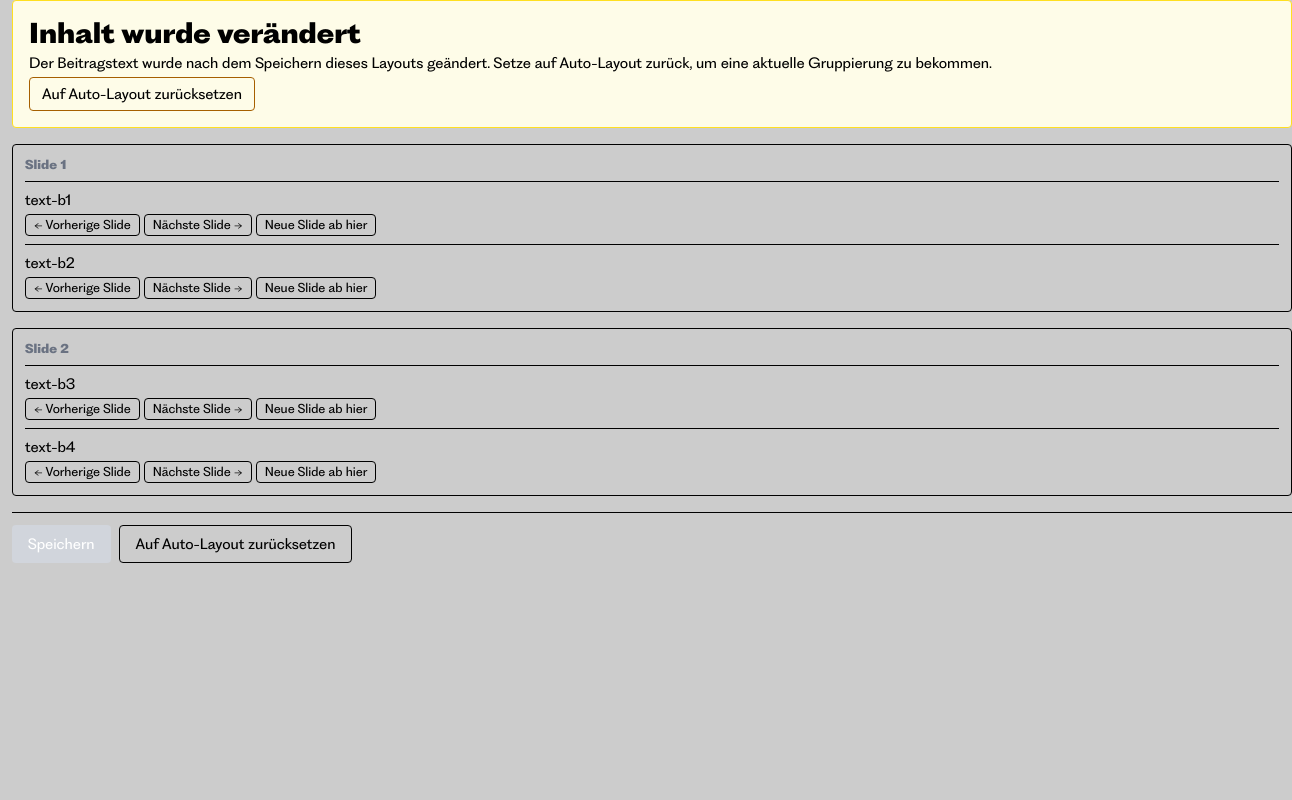
LayoutEditor › C-11: stale + orphan flows › (b) Click reset (stale) → DELETE 204 → re-fetch shows auto + reset gone
This screenshot has width=1292, height=800.
Check: the heading "Inhalt wurde verändert" is shown, box [29,16,361,50]
Note: Click reset (the one inside the stale banner).
Click the button "Auf Auto-Layout zurücksetzen" below "Inhalt wurde verändert": point(142, 94) [29,77,255,111]
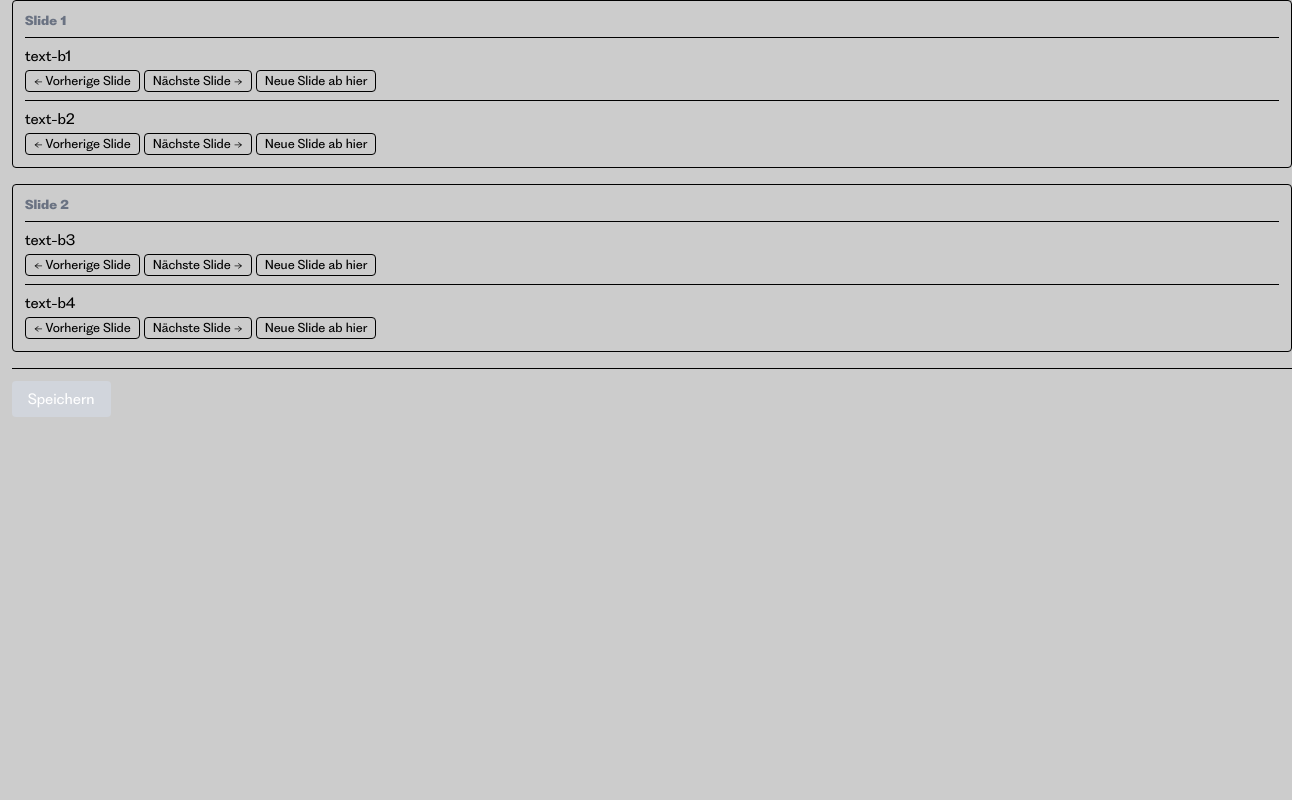
Check: the heading "Inhalt wurde verändert" is gone
Check: the button "Auf Auto-Layout zurücksetzen" is gone
